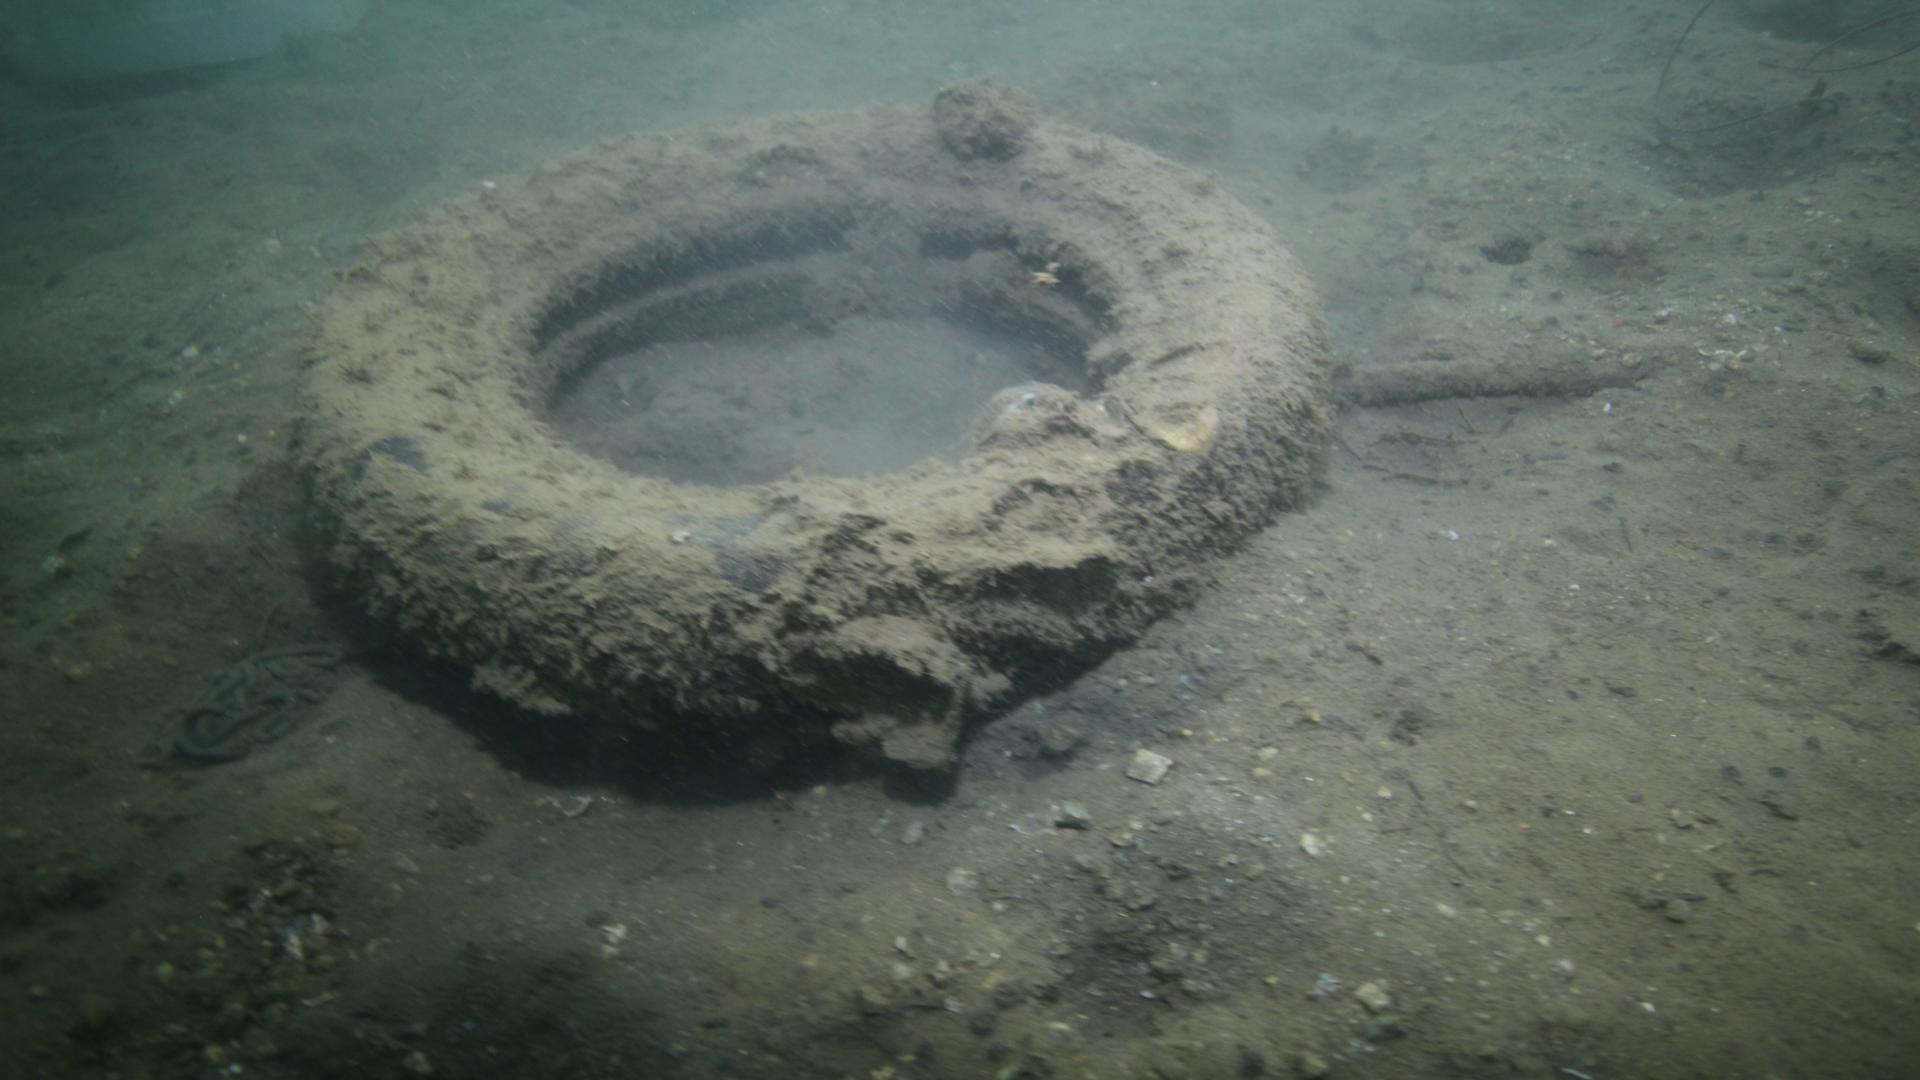tire: (301, 100, 1333, 786)
